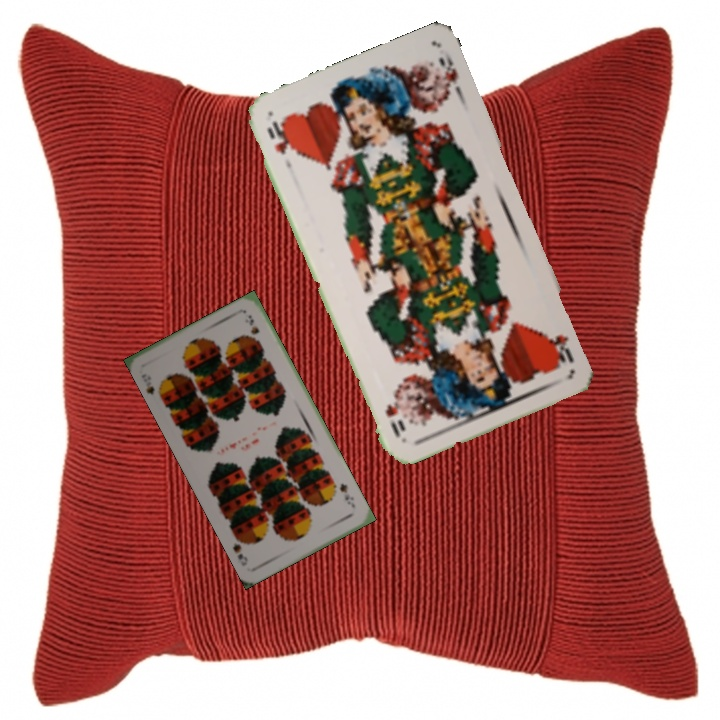HO: (263, 117, 295, 173), (542, 329, 576, 370)
S9: (335, 479, 358, 510), (141, 377, 165, 402)
